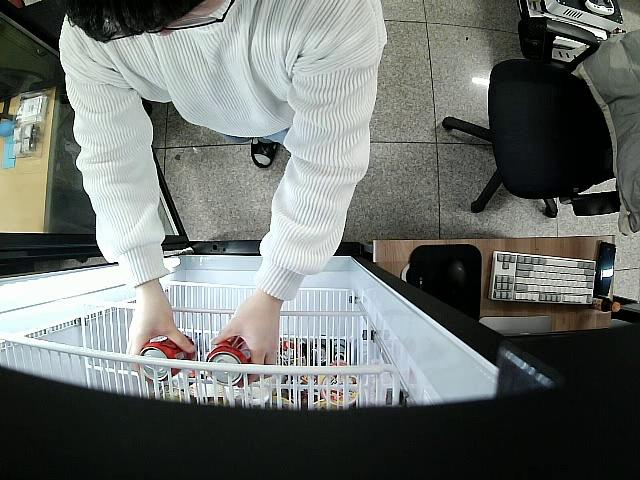00_hand: (211, 294, 279, 387), (127, 299, 196, 377)
11_cocaColaZero: (139, 332, 197, 382), (204, 337, 251, 387)
